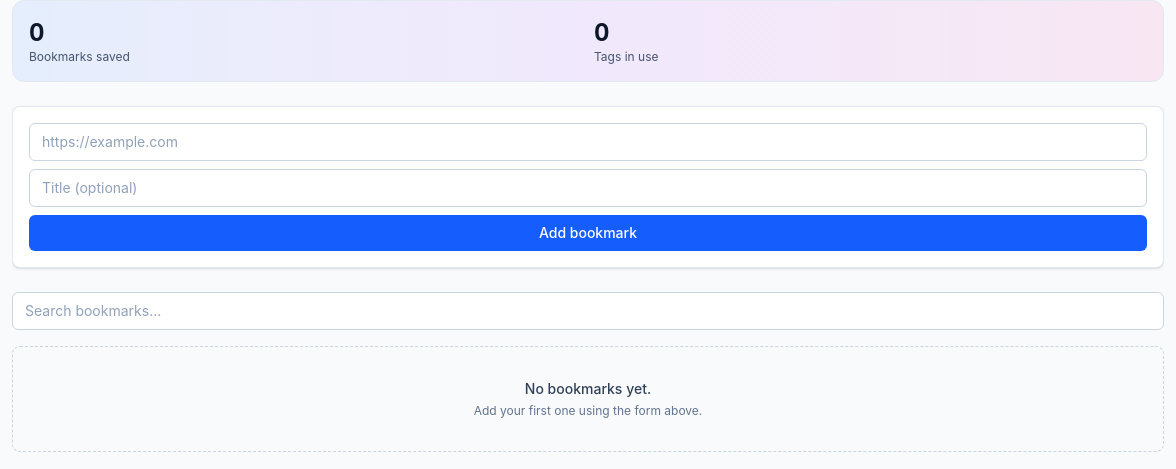
it: BookmarksList › adds a new bookmark to the list after submitting the form
Check: the text "No bookmarks yet." is shown, box [525,380,651,397]
Type "https://new.com" into the field with placeholder "https://example.com" at (588, 142), box [29,123,1147,161]
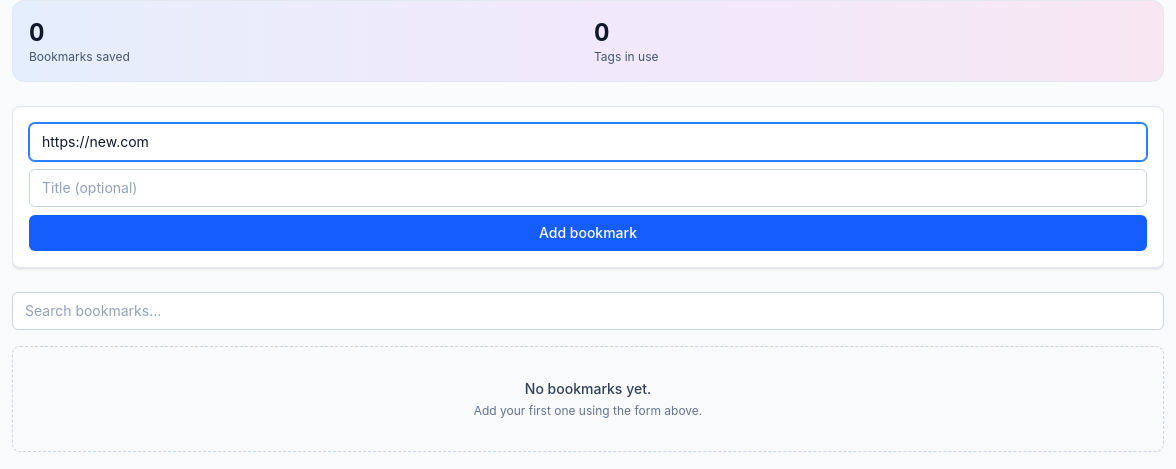
Type "New One" into the field with placeholder "Title (optional)" at (588, 188), box [29,169,1147,207]
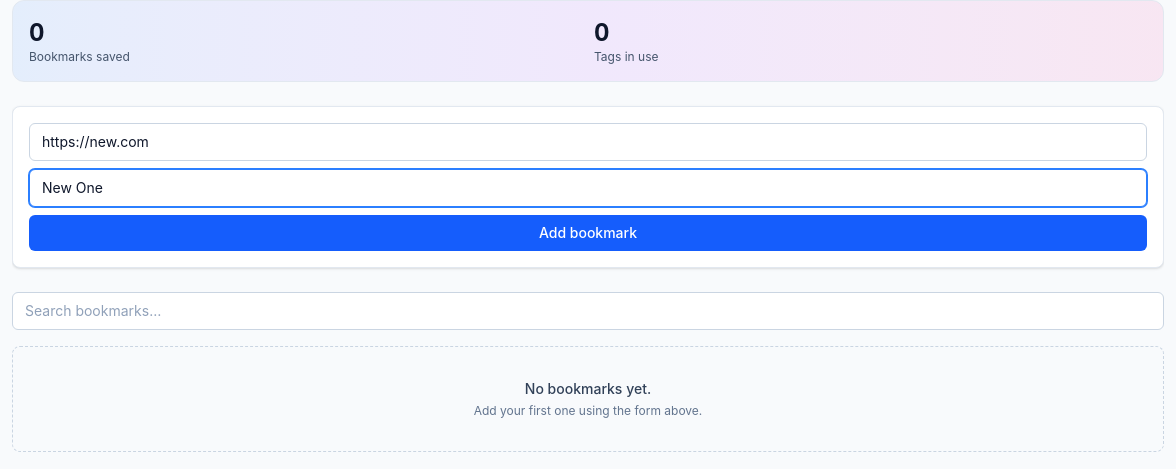
Click the button "Add bookmark" at (588, 233), box [29,215,1147,251]
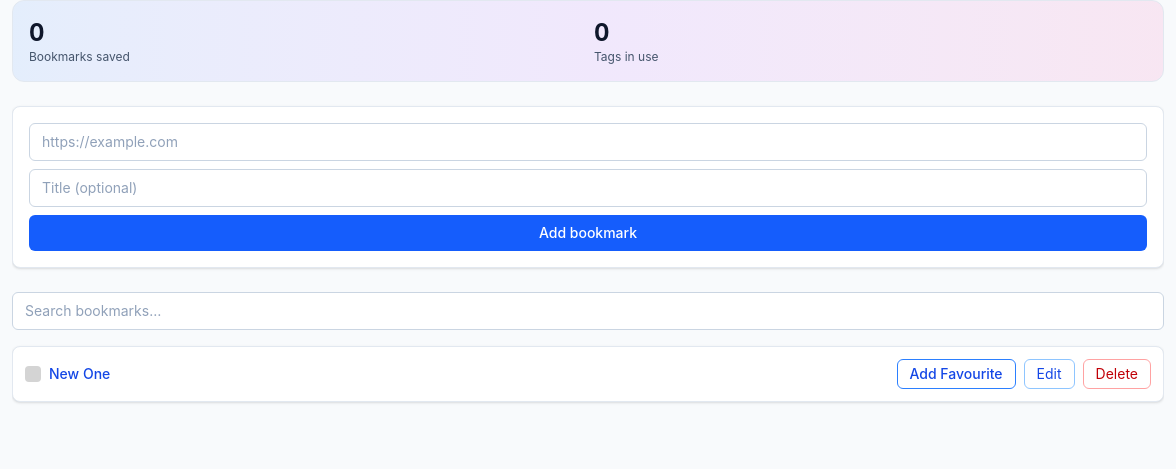
Check: the link "New One" is shown, box [49,364,110,384]
